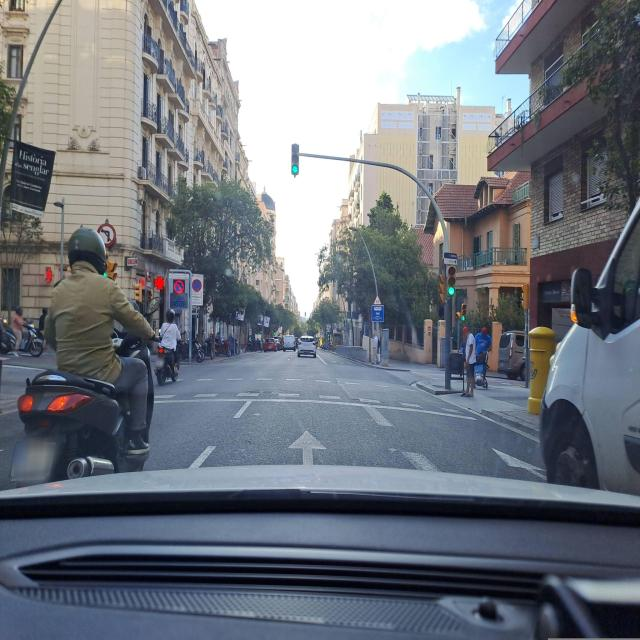bike: (6, 295, 164, 489), (2, 316, 48, 358), (186, 338, 205, 362)
car: (546, 233, 640, 496), (497, 330, 530, 380), (296, 335, 317, 358), (282, 334, 296, 352), (264, 338, 278, 352)
